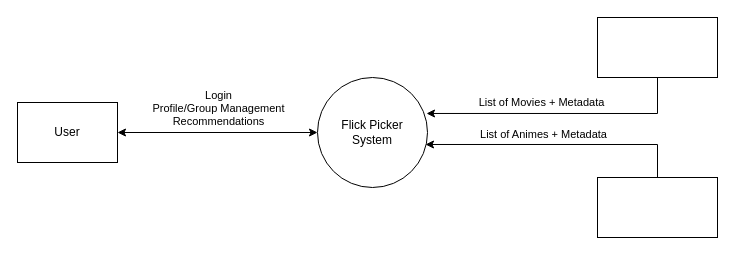
The diagram is 735 pixels wide and 255 high, and some of its shapes have lost their labels. Each missing label, with the centre of its shape:
"External Anime API System (MyAnimeList)" belongs at (x=657, y=207).
"External Movie API System (OMDb)" belongs at (x=657, y=47).
